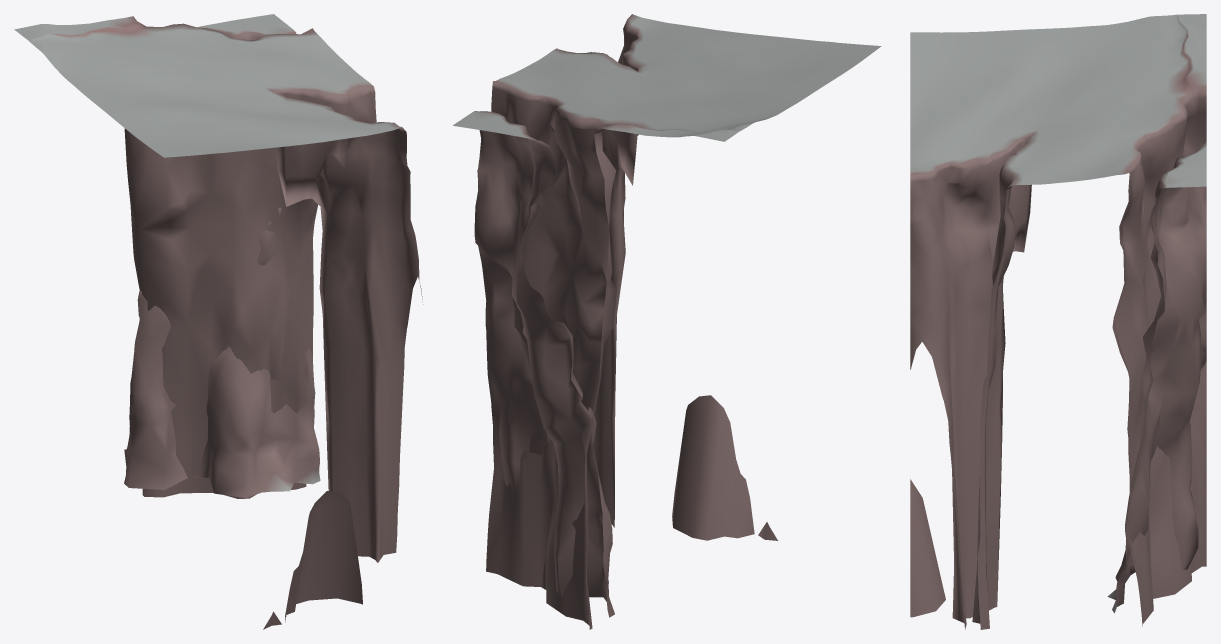
3 views of the same model, side by side, from view 1: azimuth 30°, elevation 25°; view 2: azimuth 150°, elevation 25°; view 3: azimuth 270°, elevation 25° (orthographic). The views are drawn at different scales.
Parts seen in each view (by area): view 1: G:\FFXIV-MapTools\exports\u5f1\bg\ex4\04_uvs_u5\fld\u5f1\bgp (×11); view 2: G:\FFXIV-MapTools\exports\u5f1\bg\ex4\04_uvs_u5\fld\u5f1\bgp (×10); view 3: G:\FFXIV-MapTools\exports\u5f1\bg\ex4\04_uvs_u5\fld\u5f1\bgp (×11).
Part boxes in pixels (left/top/right/bottom): G:\FFXIV-MapTools\exports\u5f1\bg\ex4\04_uvs_u5\fld\u5f1\bgp (×11): left=14, top=14, right=423, bottom=629; G:\FFXIV-MapTools\exports\u5f1\bg\ex4\04_uvs_u5\fld\u5f1\bgp (×10): left=453, top=14, right=881, bottom=629; G:\FFXIV-MapTools\exports\u5f1\bg\ex4\04_uvs_u5\fld\u5f1\bgp (×11): left=910, top=14, right=1206, bottom=629.
Size of the model in its own units: 128 by 242 by 128.
